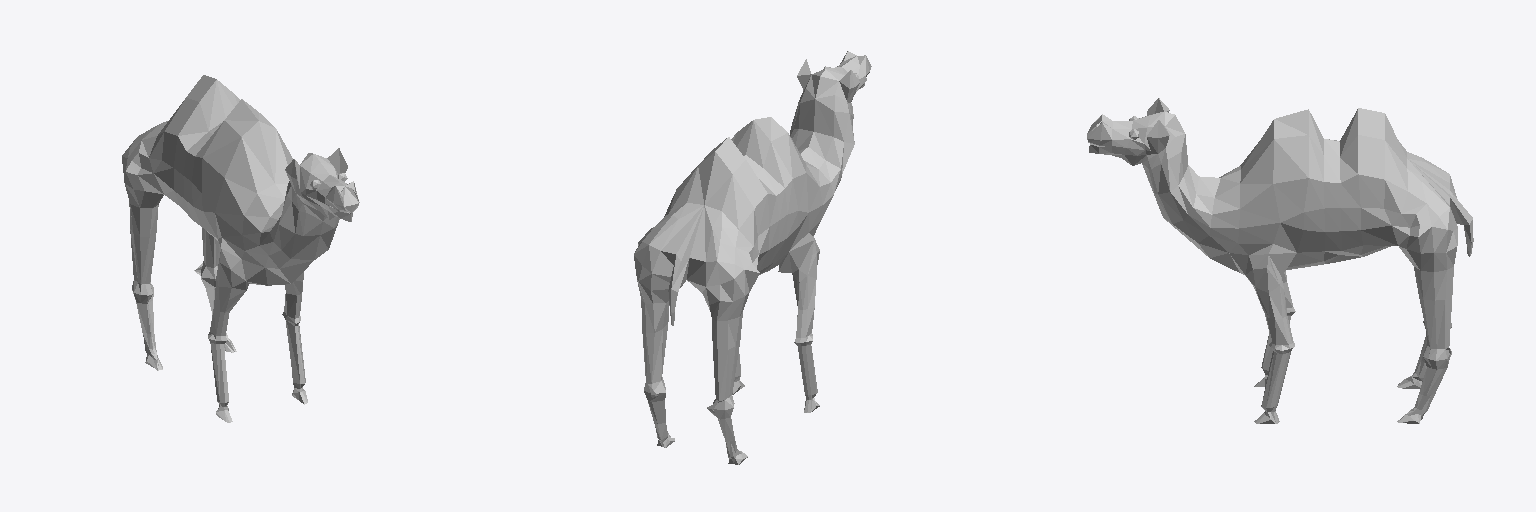
Rendered from camel.obj.
The picture shows the model from 3 angles: view 1: azimuth 30°, elevation 25°; view 2: azimuth 150°, elevation 25°; view 3: azimuth 270°, elevation 25°; orthographic projection.
Visible parts, largest first — view 1: Body; view 2: Body; view 3: Body.
Boxes of the visible parts, x1,y1,x2,y2 form: Body: [122, 75, 359, 422]; Body: [634, 51, 871, 464]; Body: [1087, 98, 1473, 423].
Bounding box in the file's own units: 160 × 369 × 437.